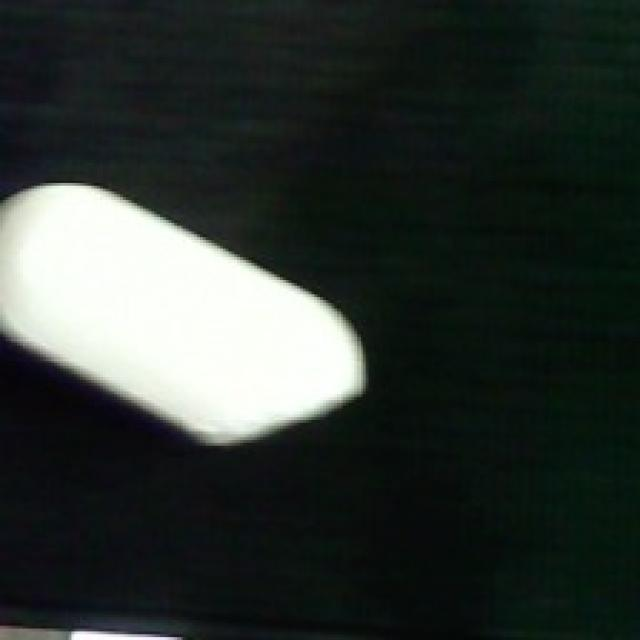defected: (0, 176, 371, 451)
